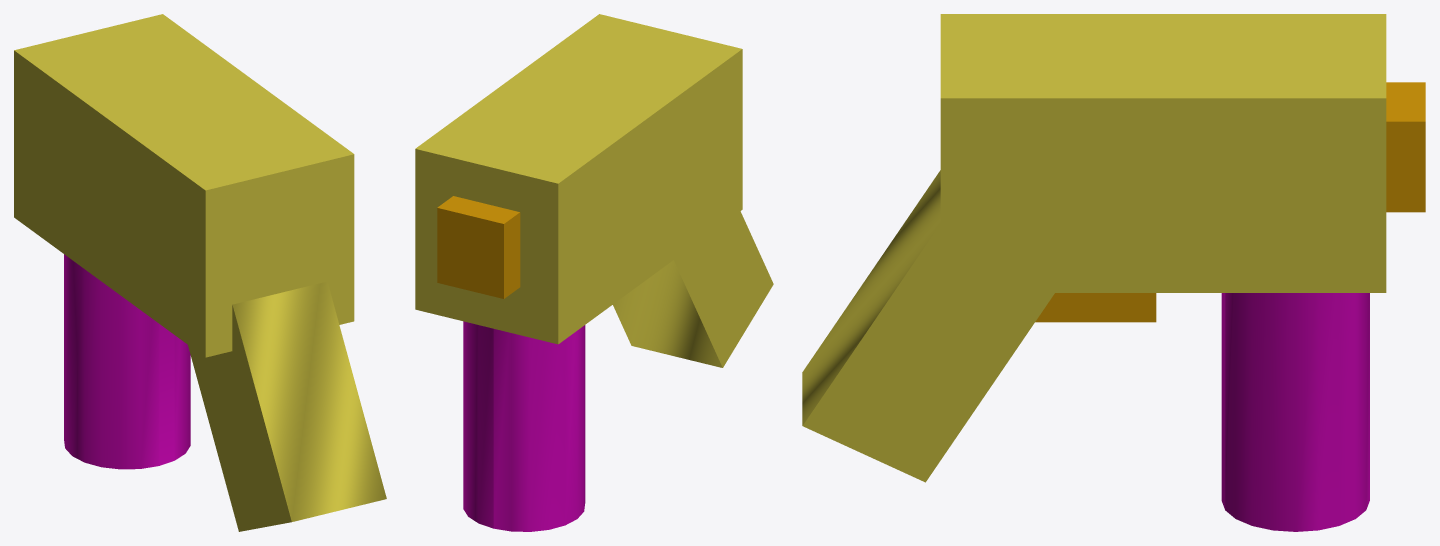
File: Bubbler2.fbx
3 views of the same model, side by side, from view 1: azimuth 30°, elevation 25°; view 2: azimuth 150°, elevation 25°; view 3: azimuth 270°, elevation 25° (orthographic). The views are drawn at different scales.
Parts seen in each view (by area): view 1: Bubbler; view 2: Bubbler; view 3: Bubbler.
Part boxes in pixels (left/top/right/bottom): Bubbler: left=14, top=14, right=386, bottom=531; Bubbler: left=415, top=14, right=773, bottom=531; Bubbler: left=802, top=14, right=1425, bottom=531.
Size of the model in its own units: 9.62 by 23.6 by 29.98.
